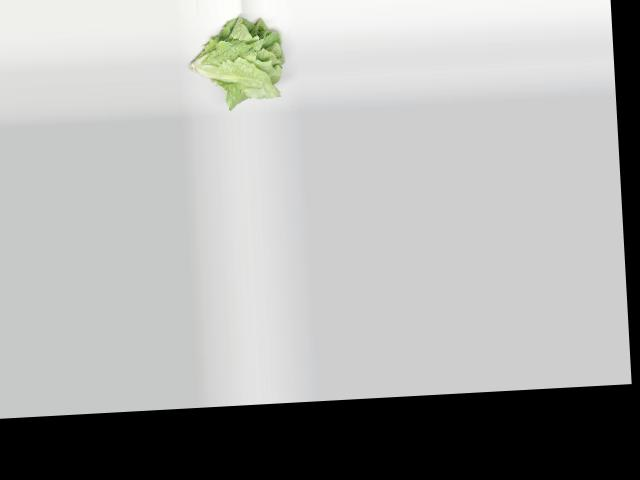lettuce: (179, 8, 291, 110)
